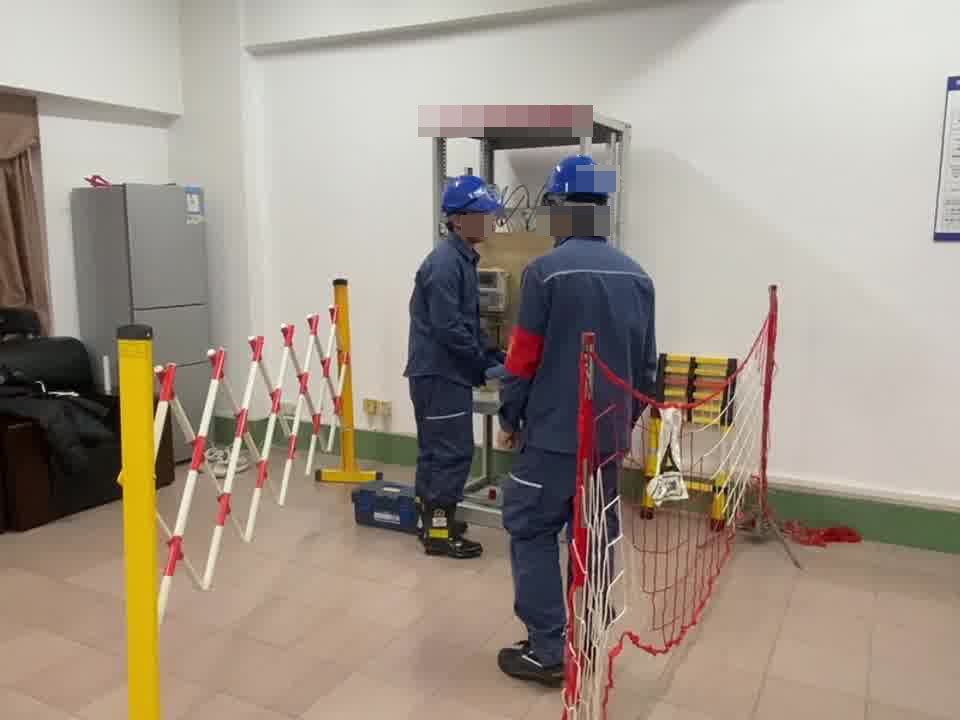badge: (504, 325, 547, 381)
downsuit: (503, 455, 628, 633), (408, 384, 475, 509)
glove: (474, 343, 505, 381)
halt: (542, 153, 614, 230), (439, 174, 506, 240)
hand: (496, 419, 522, 453)
inear: (544, 199, 565, 239)
noear: (448, 211, 468, 236)
person: (497, 152, 667, 686), (403, 171, 506, 561)
shoe: (416, 497, 490, 561)
upsuit: (505, 235, 660, 444), (407, 241, 487, 376)
